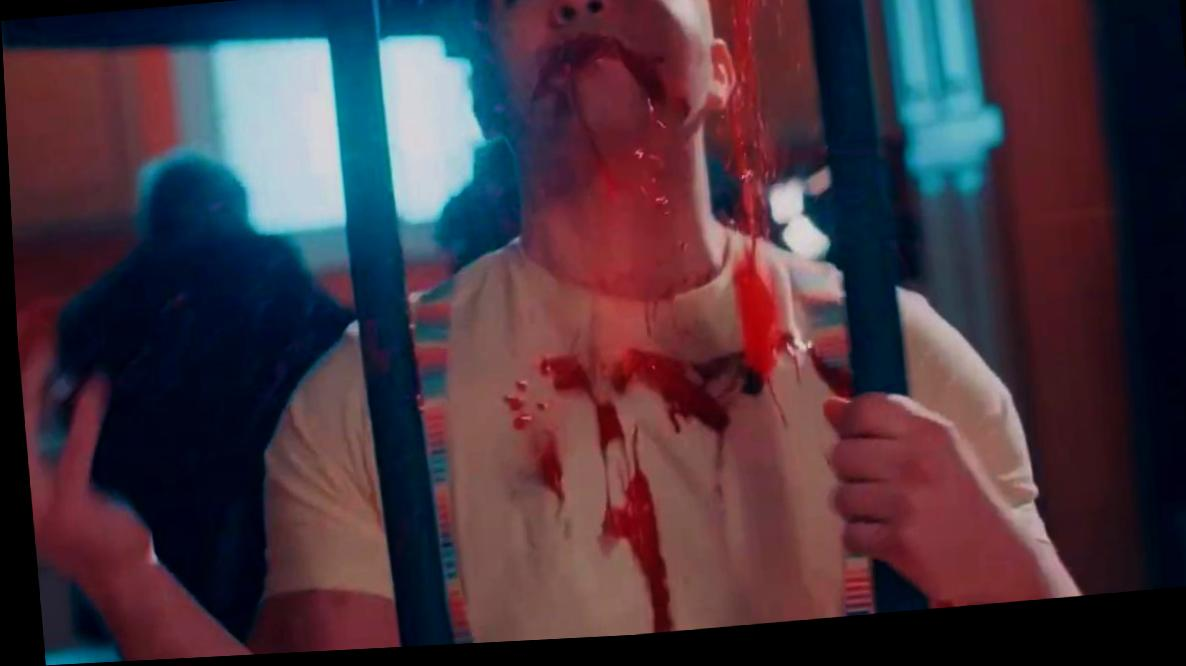Fire: (384, 0, 865, 648)
